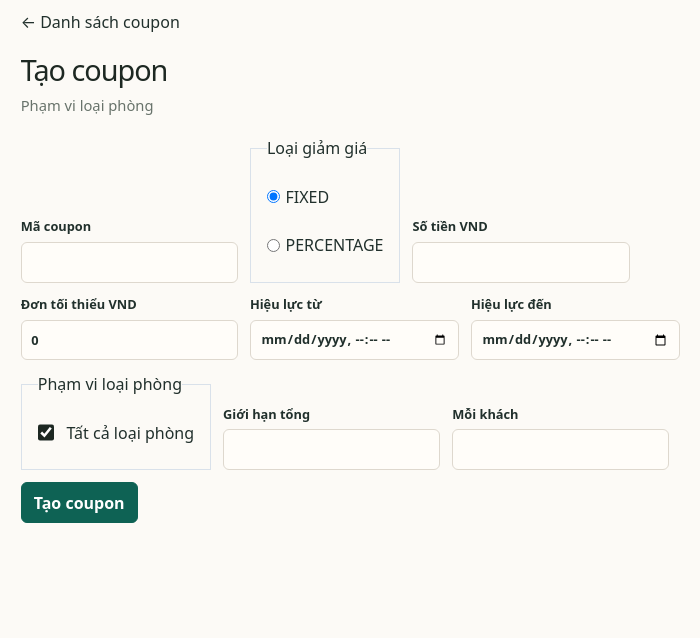
Scenario: CouponForm admin authority and request contract › blocks submission when a specific room type scope has no roomTypeIds selected
Step 1. Click the checkbox labelled "Tất cả loại phòng" → (46, 433), box [38,412,54,453]
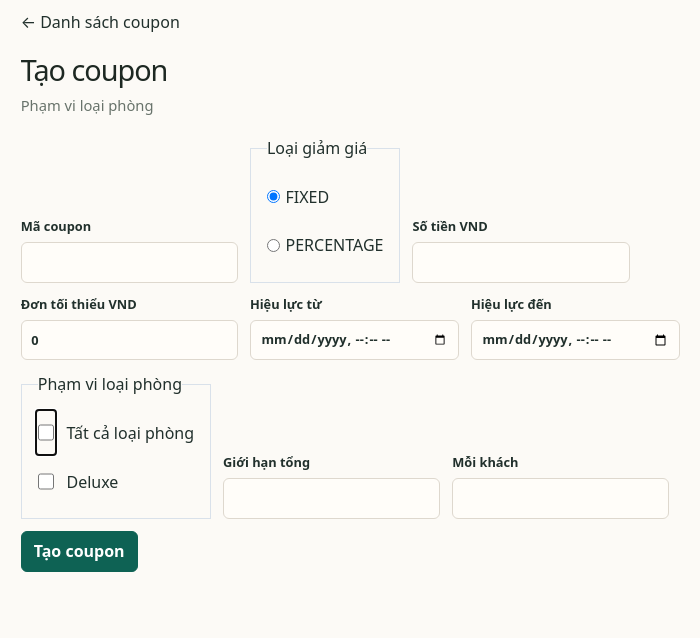
expect the checkbox labelled "Deluxe" is shown: met, box [38,461,54,502]
Step 2. Type "NO-ROOM-TYPE" into the field labelled "Mã coupon" → (129, 262), box [21,242,238,283]
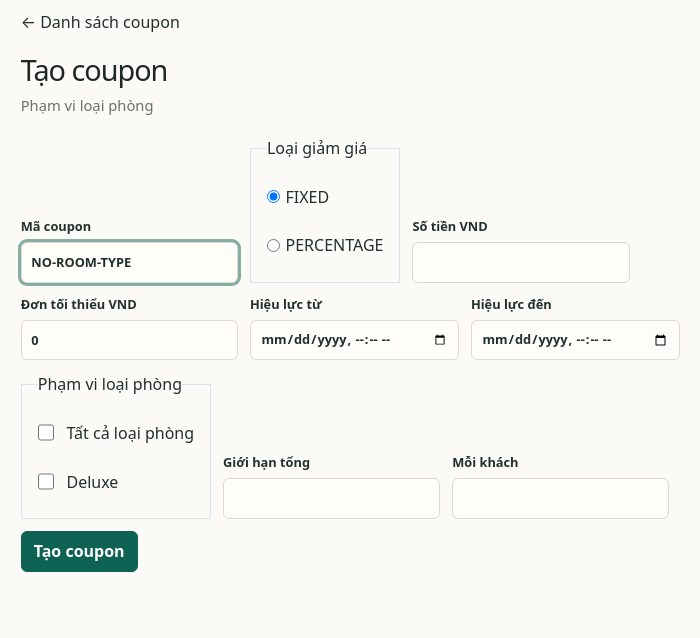
Step 3. Type "2027-06-01T10:00" into the field labelled "Hiệu lực từ" → (354, 340), box [250,320,459,360]
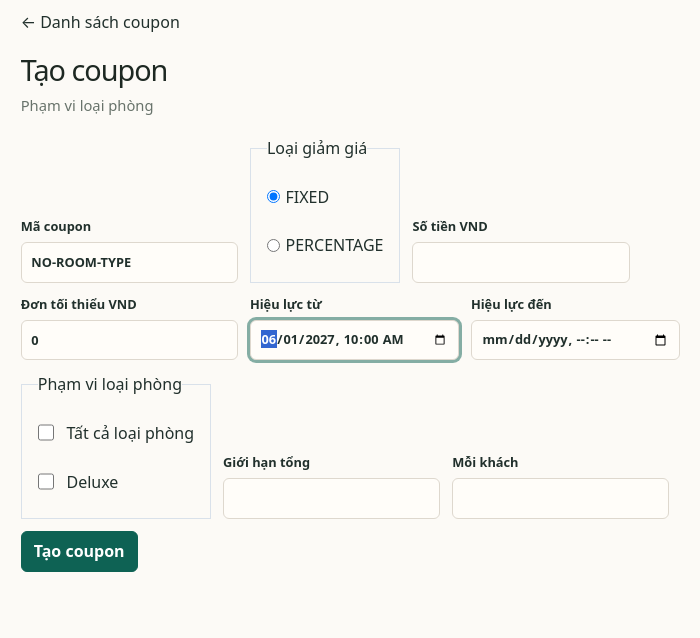
Step 4. Type "2027-12-31T10:00" into the field labelled "Hiệu lực đến" → (575, 340), box [471,320,680,360]
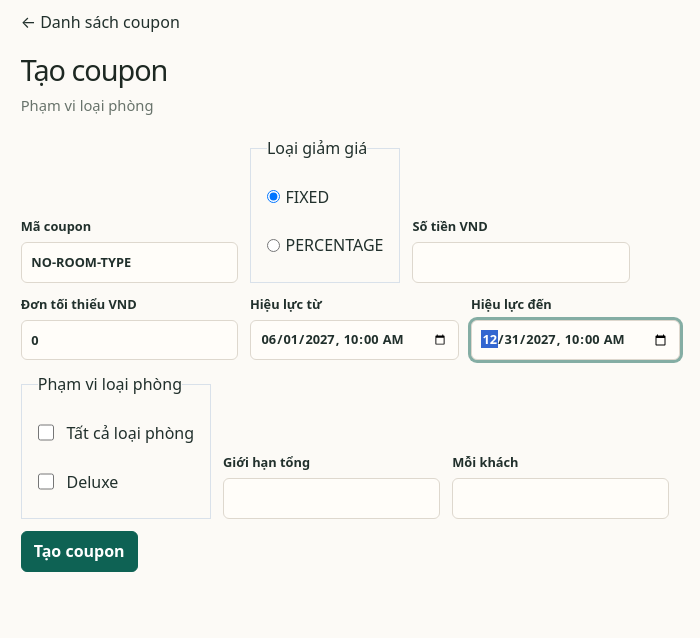
Step 5. Type "50000" into the number field labelled "Số tiền VND" → (521, 262), box [412,242,630,283]
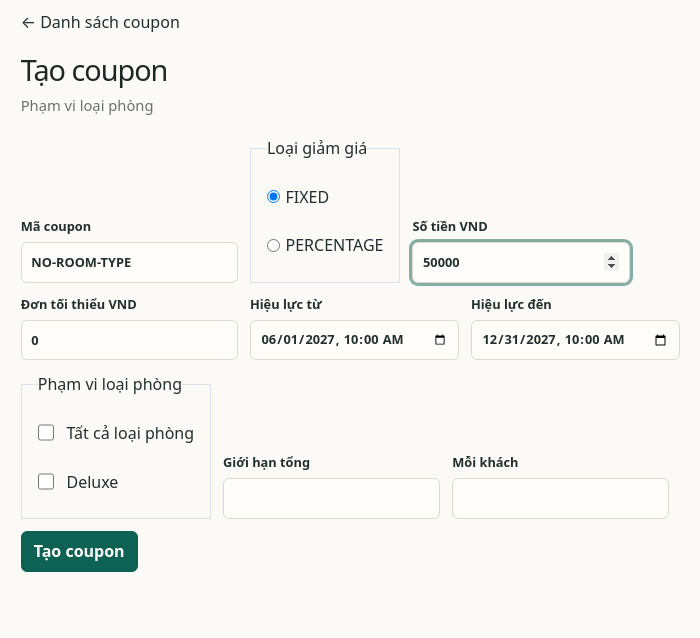
Step 6. Click the button "Tạo coupon" → (79, 551), box [21,531,138,572]
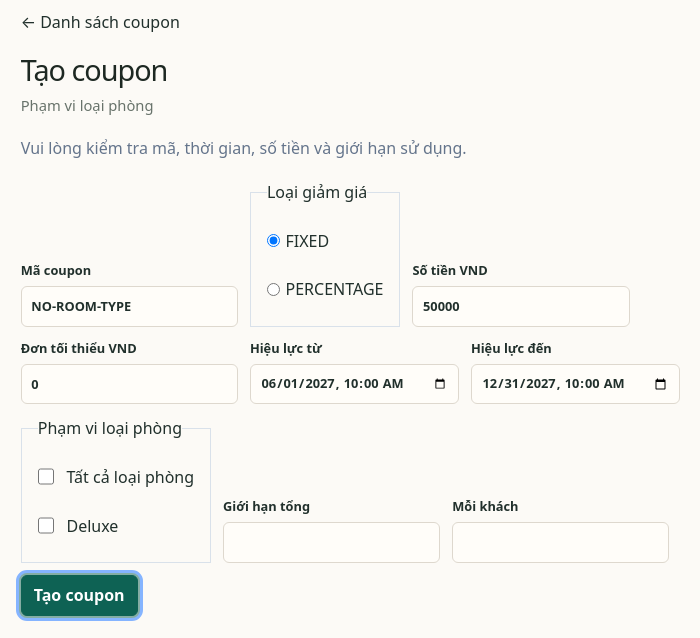
expect the message reads "Vui lòng kiểm tra mã, thời gian, số tiền và giới hạn sử dụng.": met, box [21,137,467,159]
